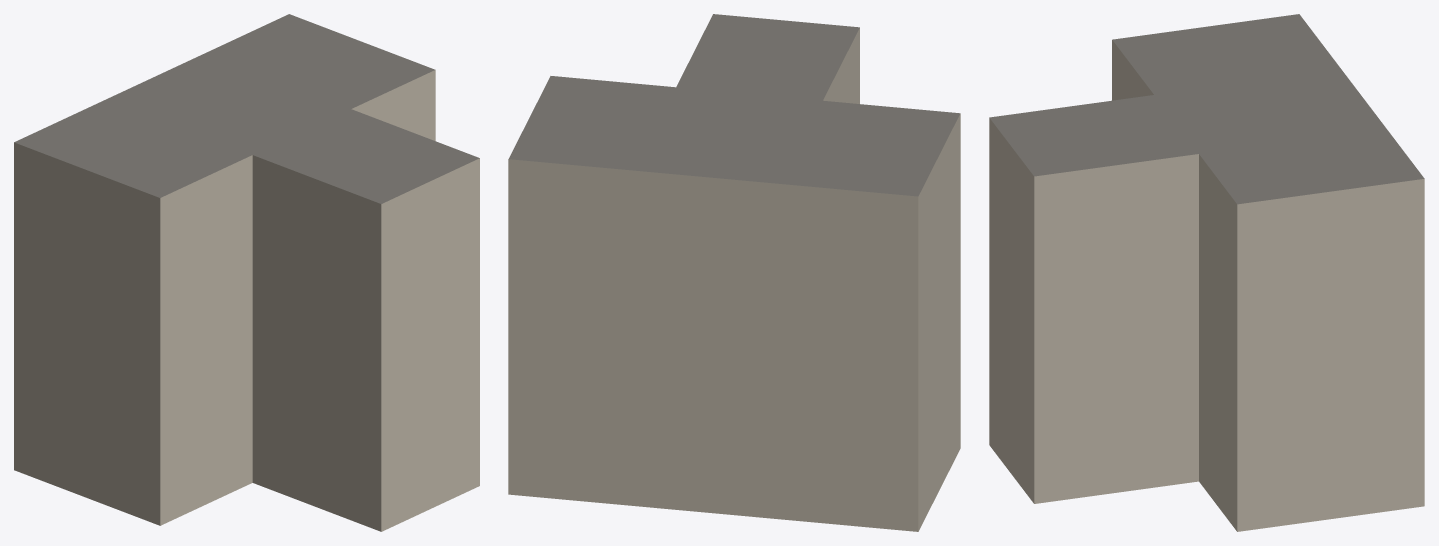
3 views of the same model, side by side, from view 1: azimuth 30°, elevation 25°; view 2: azimuth 150°, elevation 25°; view 3: azimuth 270°, elevation 25° (orthographic). The views are drawn at different scales.
Parts seen in each view (by area): view 1: HP-w859488672; view 2: HP-w859488672; view 3: HP-w859488672.
Part boxes in pixels (bbox=[...]): HP-w859488672: bbox=[14, 14, 479, 531]; HP-w859488672: bbox=[508, 14, 960, 531]; HP-w859488672: bbox=[989, 14, 1424, 531].
Size of the model in its own units: 22.44 by 18 by 21.69.
